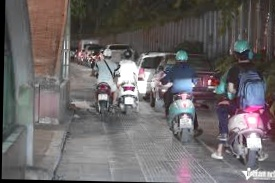Bien-so: (245, 138, 262, 149), (180, 118, 195, 128), (124, 98, 134, 104), (98, 94, 107, 100)
